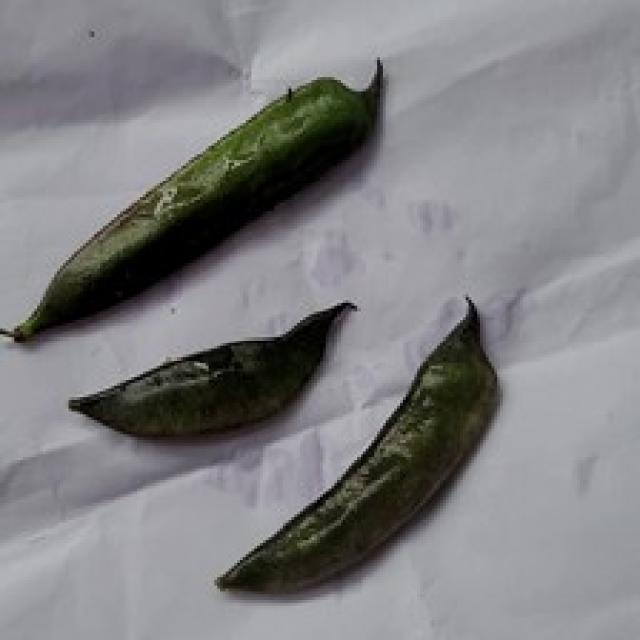Bean: (0, 54, 383, 343), (211, 294, 500, 594), (66, 297, 357, 437)
